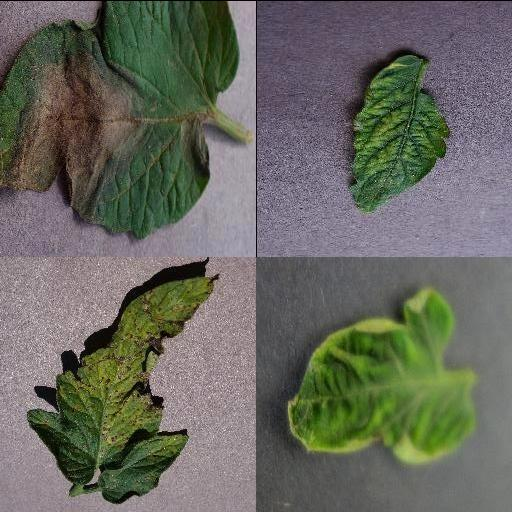Late Blight: (0, 0, 240, 238)
Mosaic Virus: (346, 53, 448, 213)
Septoria: (27, 273, 216, 501)
Yellow Leaf Curl Virus: (286, 288, 476, 464)
